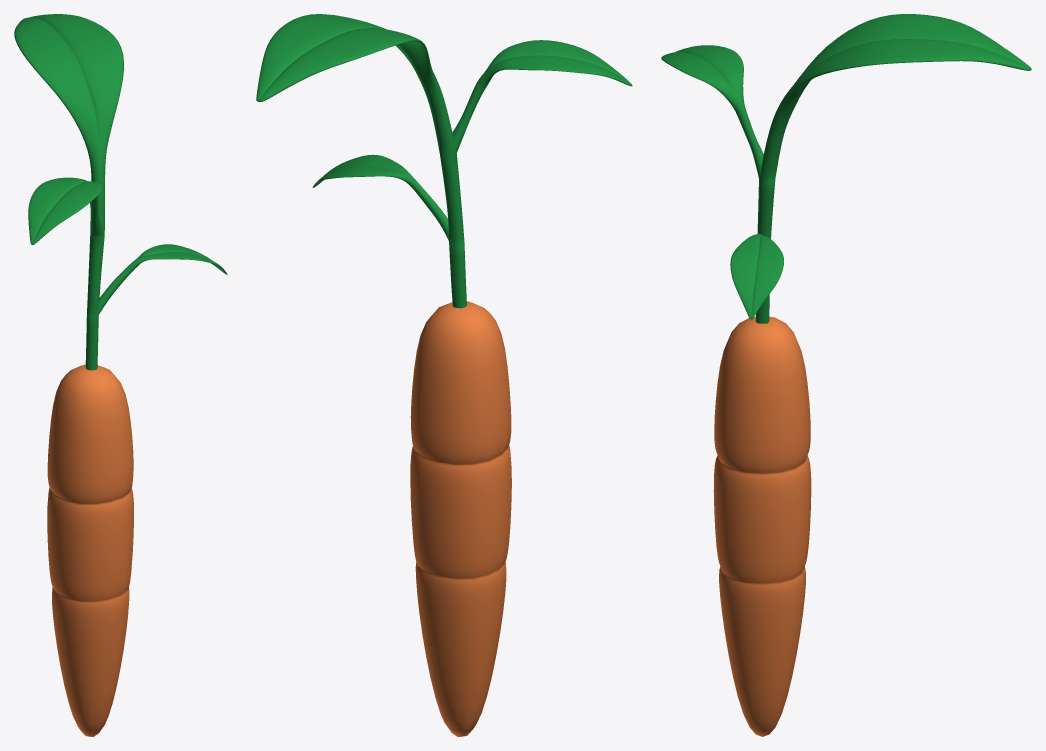
Rendered from CarrotStage04.fbx.
The picture shows the model from 3 angles, left to right: view 1: azimuth 30°, elevation 25°; view 2: azimuth 150°, elevation 25°; view 3: azimuth 270°, elevation 25°; orthographic projection. The views are drawn at different scales.
Parts seen in each view (by area): view 1: Cube, Plane; view 2: Cube, Plane; view 3: Cube, Plane.
Part boxes in pixels (<box>): Cube: <box>47,364,133,736</box>; Plane: <box>14,14,227,370</box>; Cube: <box>410,301,511,736</box>; Plane: <box>256,14,632,308</box>; Cube: <box>713,316,811,736</box>; Plane: <box>661,14,1031,323</box>.
Bounding box in the file's own units: 162 × 424 × 196.
